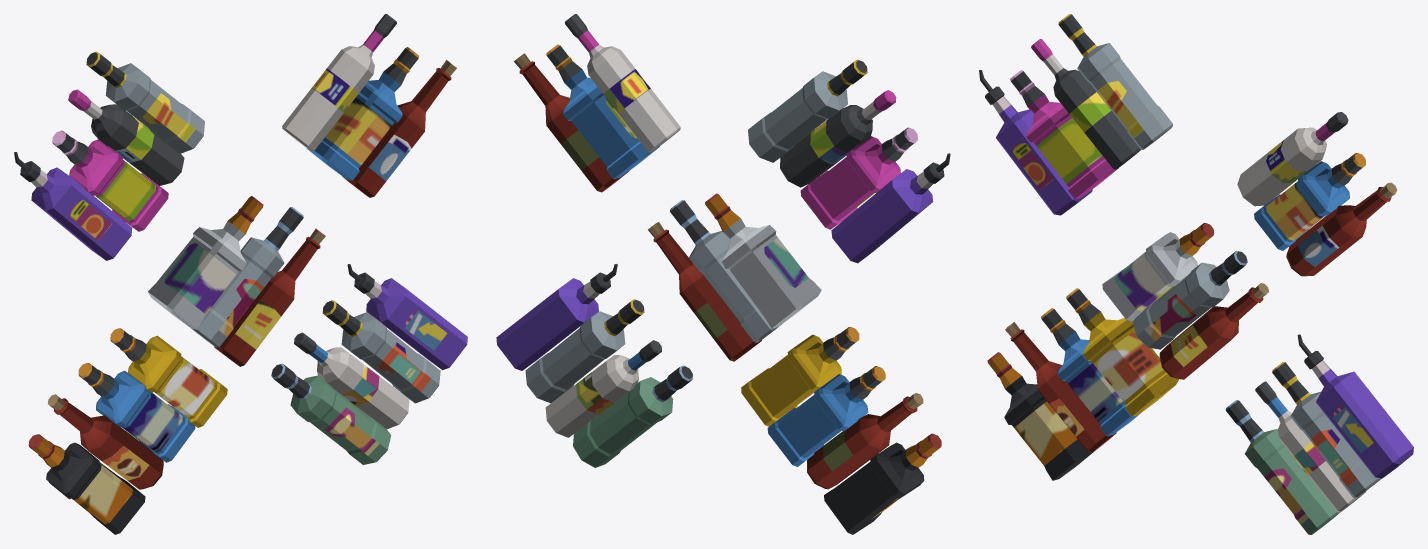
The model's file is SM_Bld_Shelf_03_Insert_01.fbx.
3 renders of one model, left to right at view 1: azimuth 30°, elevation 25°; view 2: azimuth 150°, elevation 25°; view 3: azimuth 330°, elevation 25°, orthographic. The views are drawn at different scales.
Visible parts, largest first — view 1: SM_Bld_Shelf_03_Insert_01; view 2: SM_Bld_Shelf_03_Insert_01; view 3: SM_Bld_Shelf_03_Insert_01.
Boxes of the visible parts, left/top/right/bottom form: SM_Bld_Shelf_03_Insert_01: left=14, top=14, right=467, bottom=534; SM_Bld_Shelf_03_Insert_01: left=496, top=14, right=950, bottom=534; SM_Bld_Shelf_03_Insert_01: left=979, top=14, right=1413, bottom=534.
Size of the model in its own units: 155 by 156 by 19.34.
1 material, 1 textured.
